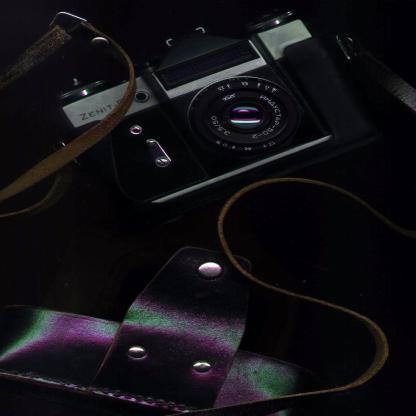Camera: (55, 10, 379, 209)
